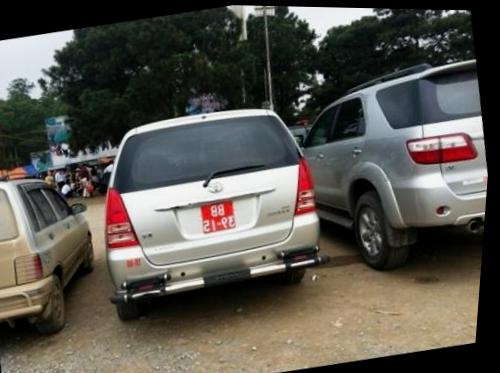License_Plate: (198, 199, 238, 236)
